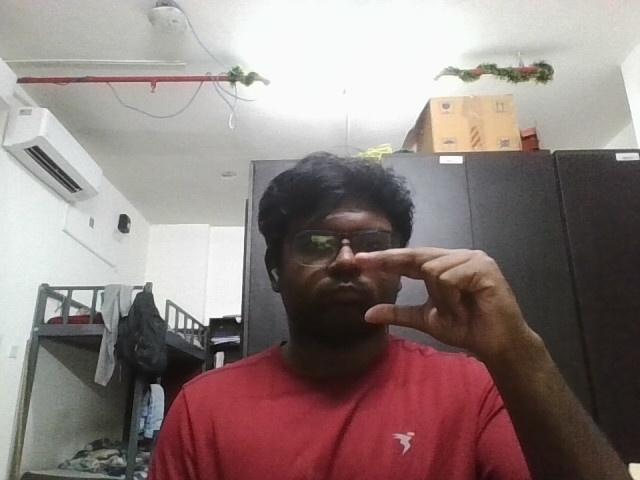No: (340, 234, 582, 381)
